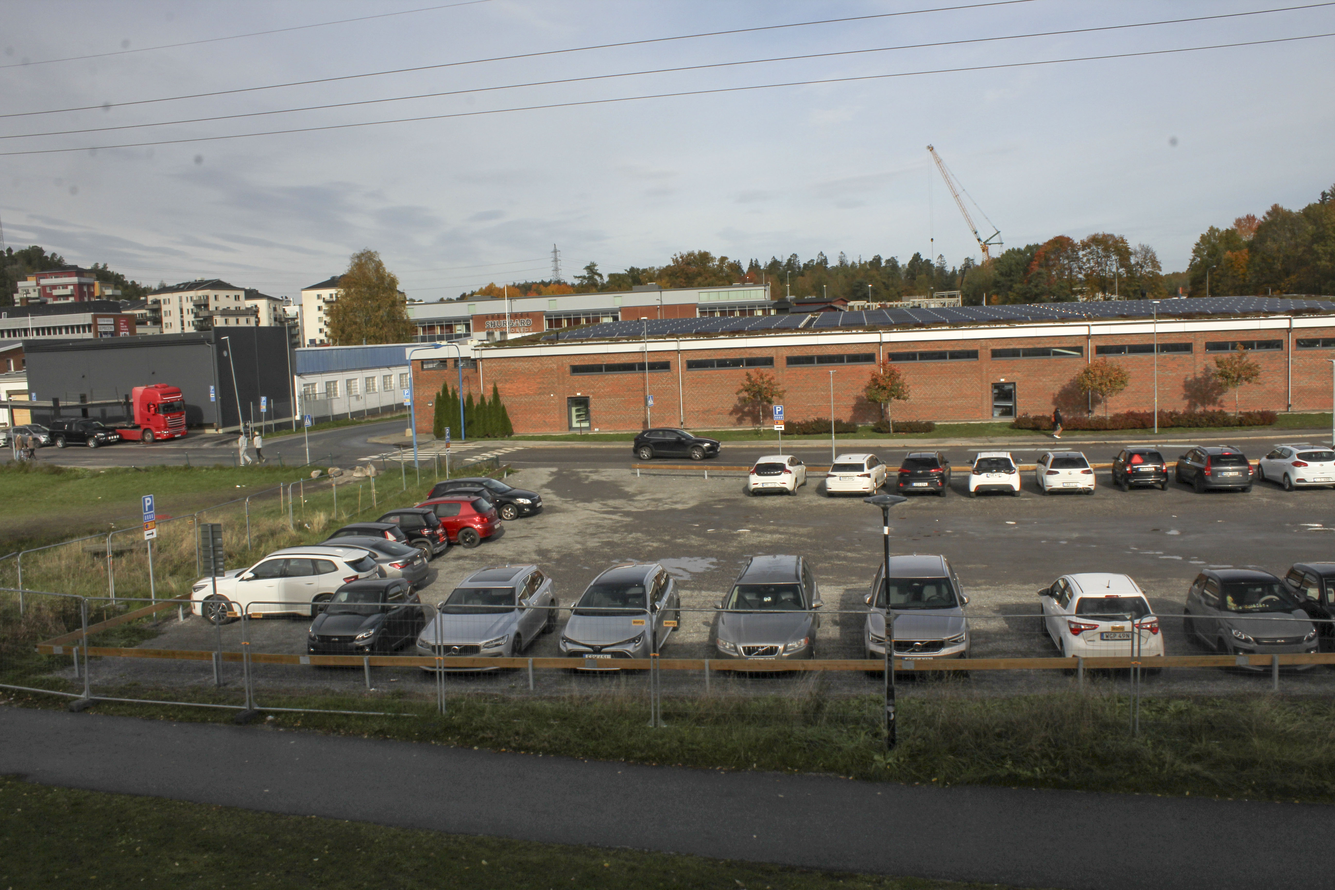Car: (850, 550, 982, 676), (1035, 557, 1174, 668), (192, 537, 376, 618), (1178, 560, 1304, 672), (556, 665, 693, 766), (562, 556, 683, 667), (705, 551, 823, 663), (307, 579, 424, 655), (432, 476, 545, 515), (348, 527, 431, 580), (1175, 444, 1258, 494), (378, 501, 450, 554), (1260, 443, 1334, 492), (1033, 448, 1101, 495), (327, 519, 426, 550), (439, 495, 502, 543), (630, 428, 722, 460), (1306, 558, 1335, 658), (1111, 445, 1172, 492), (963, 448, 1024, 494), (747, 451, 805, 498), (895, 450, 955, 494), (824, 452, 884, 495), (45, 413, 122, 446), (444, 484, 502, 515), (7, 423, 50, 443)
